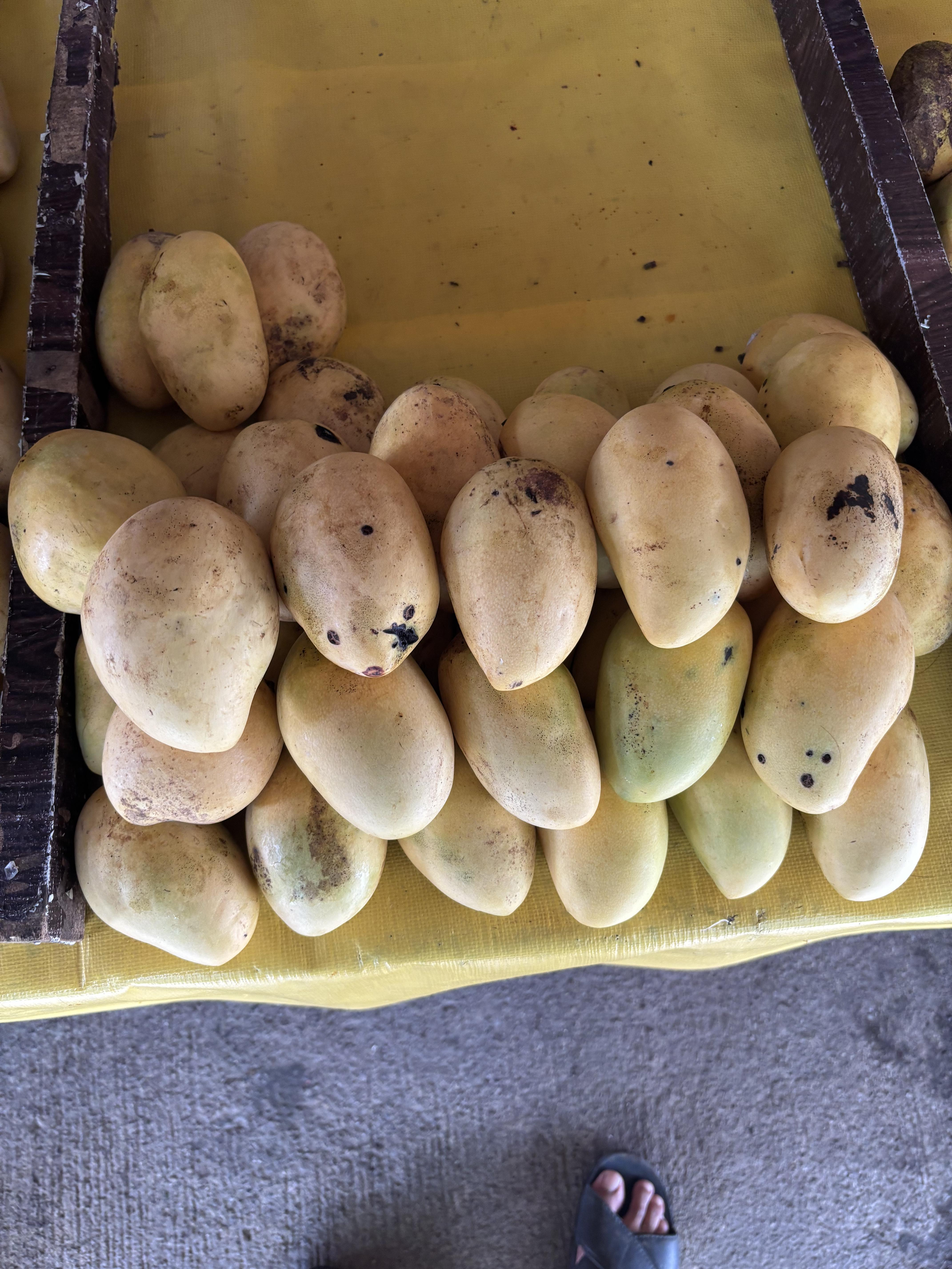mango: (82, 497, 279, 753), (586, 402, 750, 648), (270, 452, 439, 677), (441, 457, 596, 692), (8, 429, 184, 613), (764, 427, 904, 623), (139, 231, 268, 430)
occluded: (740, 594, 915, 814), (277, 634, 454, 839), (75, 788, 259, 965), (8, 429, 184, 613), (439, 634, 600, 830), (595, 603, 752, 803), (660, 377, 780, 601), (245, 748, 387, 936), (103, 683, 282, 825), (804, 706, 930, 901), (398, 745, 535, 915), (370, 385, 500, 562), (669, 728, 792, 899), (539, 776, 668, 928), (758, 333, 900, 456), (217, 419, 349, 550), (236, 221, 346, 371), (95, 231, 172, 410), (890, 463, 952, 657), (259, 357, 385, 452), (500, 388, 616, 491), (742, 313, 872, 389), (152, 423, 241, 500), (421, 374, 506, 442), (75, 635, 115, 774), (533, 366, 631, 420), (651, 362, 756, 404), (889, 362, 919, 453), (596, 535, 620, 588)
